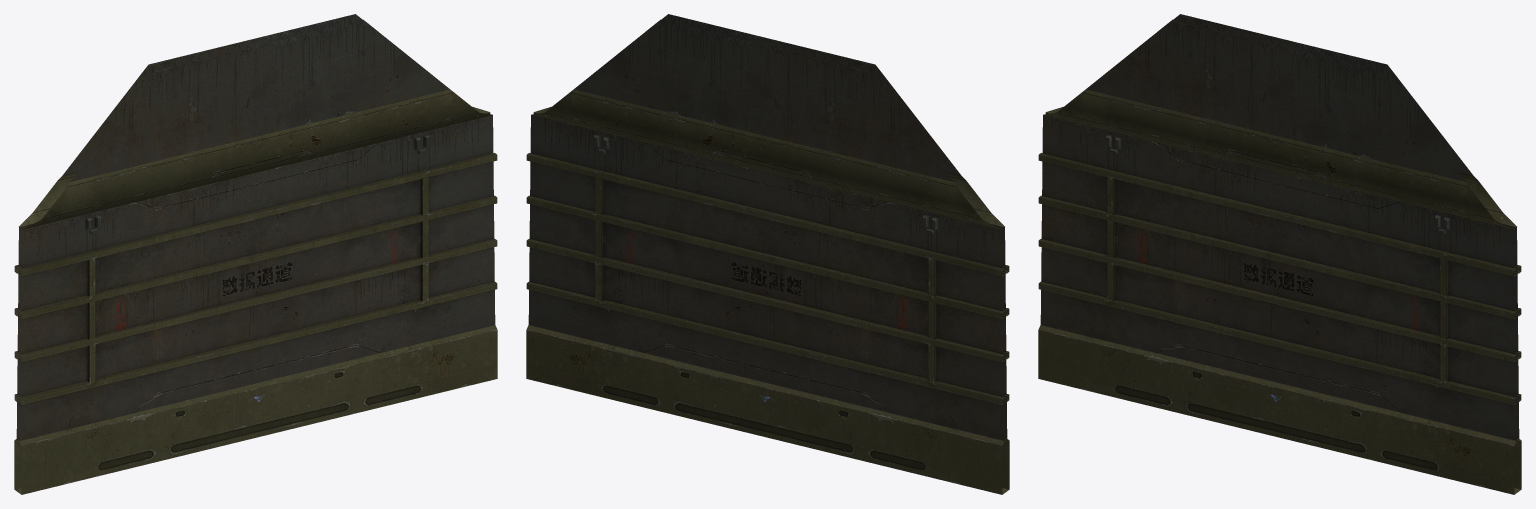
Rendered from slidedoor_data_tunnel_door.DAE.
3 views of the same model, side by side, from view 1: azimuth 30°, elevation 25°; view 2: azimuth 150°, elevation 25°; view 3: azimuth 330°, elevation 25° (orthographic).
Parts seen in each view (by area): view 1: slidedoor_data_tunnel_door_LP; view 2: slidedoor_data_tunnel_door_LP; view 3: slidedoor_data_tunnel_door_LP.
Part boxes in pixels (x1,y1,x2,y2): slidedoor_data_tunnel_door_LP: (14, 14, 497, 494); slidedoor_data_tunnel_door_LP: (526, 14, 1009, 494); slidedoor_data_tunnel_door_LP: (1038, 14, 1521, 494).
Bounding box in the file's own units: 13.91 × 0.4585 × 10.96.
